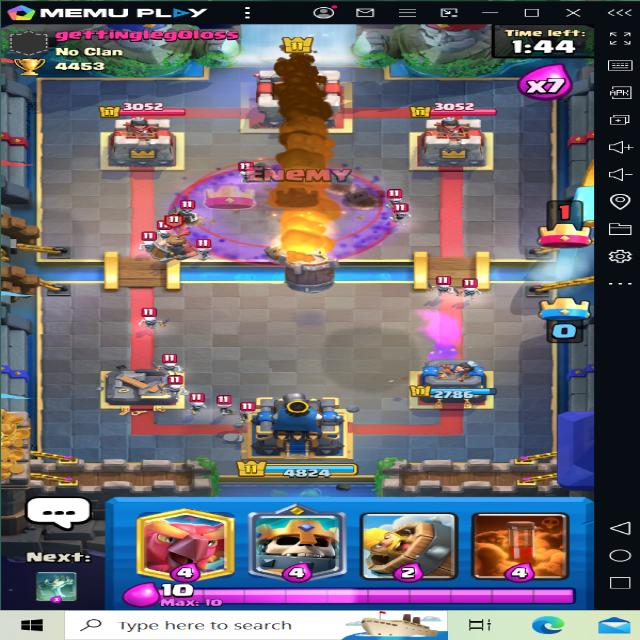Graveyard: (172, 163, 399, 268)
Rocket: (266, 251, 344, 297)
Royalrecruits: (147, 229, 195, 265)
Skeleton: (152, 371, 190, 399), (233, 400, 266, 427), (228, 164, 266, 183), (133, 308, 164, 330), (178, 200, 203, 223), (192, 237, 218, 256), (181, 393, 208, 410), (457, 280, 481, 299), (430, 281, 457, 297), (160, 358, 187, 374), (139, 233, 160, 252), (390, 206, 412, 224), (208, 398, 233, 413), (388, 186, 407, 205)
